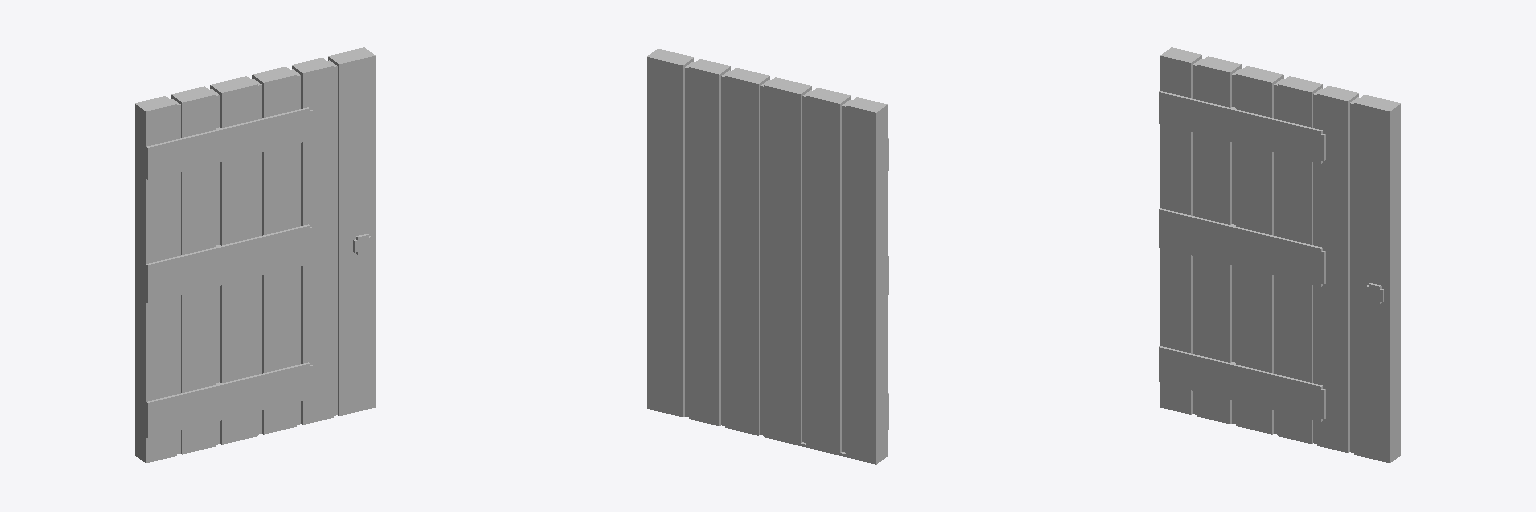
The model's file is Door.obj.
3 renders of one model, left to right at view 1: azimuth 30°, elevation 25°; view 2: azimuth 150°, elevation 25°; view 3: azimuth 330°, elevation 25°, orthographic.
Visible parts, largest first — view 1: object 1; view 2: object 1; view 3: object 1.
Part boxes in pixels (x1,y1,x2,y2): object 1: (135,47,375,462); object 1: (647,49,888,464); object 1: (1159,47,1400,462).
Bounding box in the file's own units: 8.2 × 12 × 0.8.